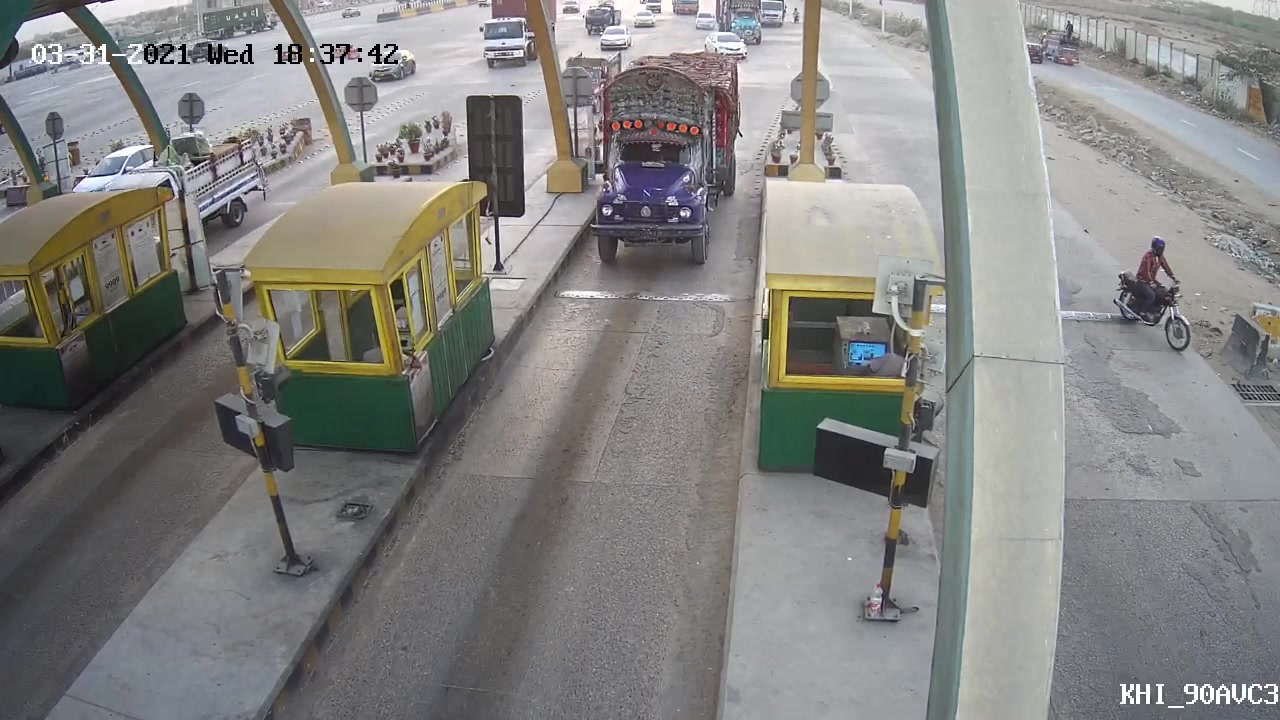F5: (574, 54, 743, 266)
